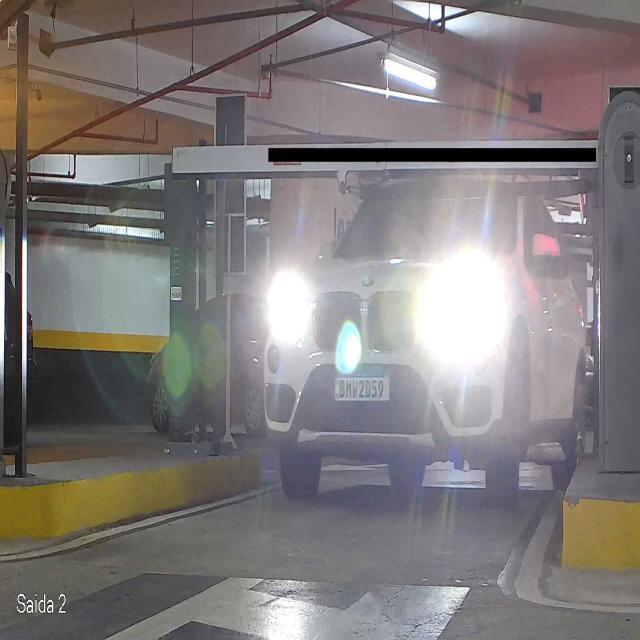mercosul_plate: (333, 371, 391, 402)
